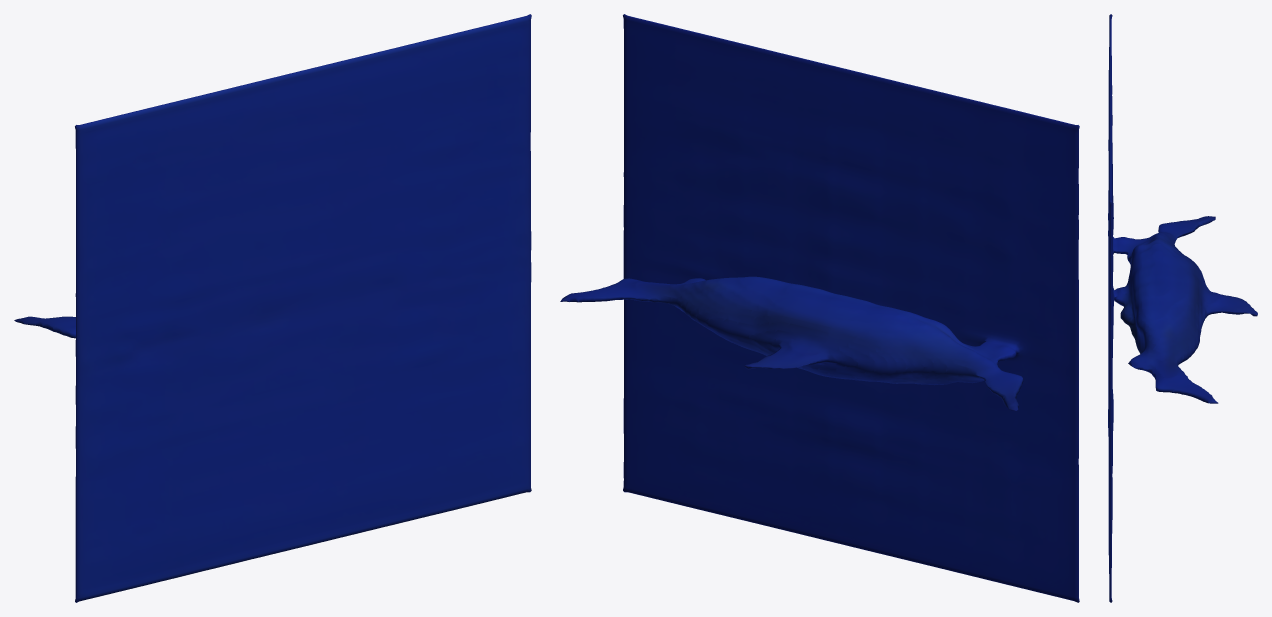
3 views of the same model, side by side, from view 1: azimuth 30°, elevation 25°; view 2: azimuth 150°, elevation 25°; view 3: azimuth 270°, elevation 25° (orthographic). The views are drawn at different scales.
Visible parts, largest first — view 1: plyFile; view 2: plyFile; view 3: plyFile.
Part boxes in pixels (x1,y1,x2,y2): plyFile: (14,14,531,602); plyFile: (560,14,1079,602); plyFile: (1108,14,1257,602).
Bounding box in the file's own units: 198 × 198 × 66.9.
